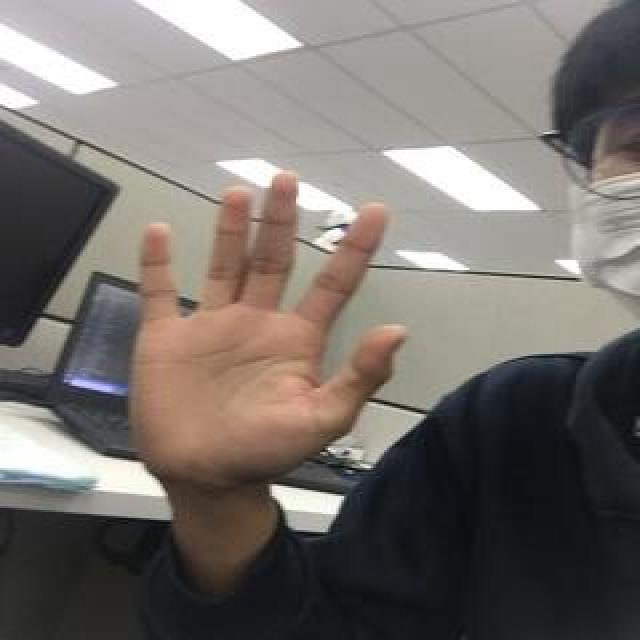hand: (125, 172, 411, 482)
